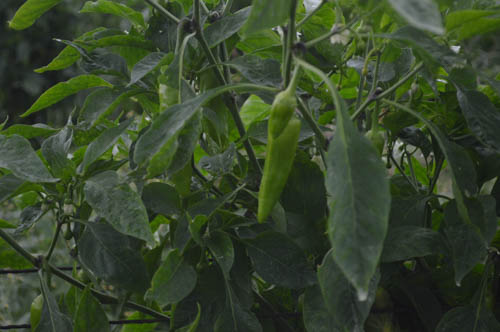ChiliPepper: (249, 108, 304, 227), (264, 88, 301, 138)
